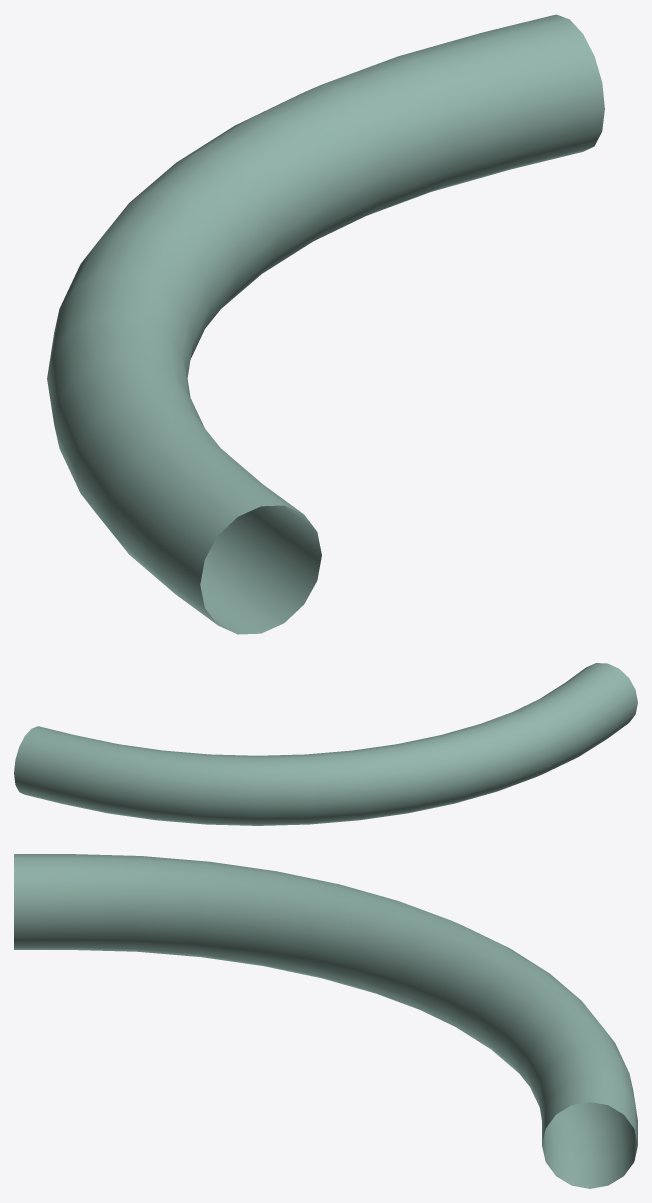
The model's file is PipeLarge_Bent_06.fbx.
3 views of the same model, one above another, from view 1: azimuth 30°, elevation 25°; view 2: azimuth 150°, elevation 25°; view 3: azimuth 270°, elevation 25° (orthographic). The views are drawn at different scales.
Visible parts, largest first — view 1: PipeLarge_Bent_06.001; view 2: PipeLarge_Bent_06.001; view 3: PipeLarge_Bent_06.001.
Boxes of the visible parts, x1,y1,x2,y2 form: PipeLarge_Bent_06.001: (47,14,604,634); PipeLarge_Bent_06.001: (14,663,637,825); PipeLarge_Bent_06.001: (14,854,637,1188).
Bounding box in the file's own units: 1.3 × 0.2 × 1.3.
